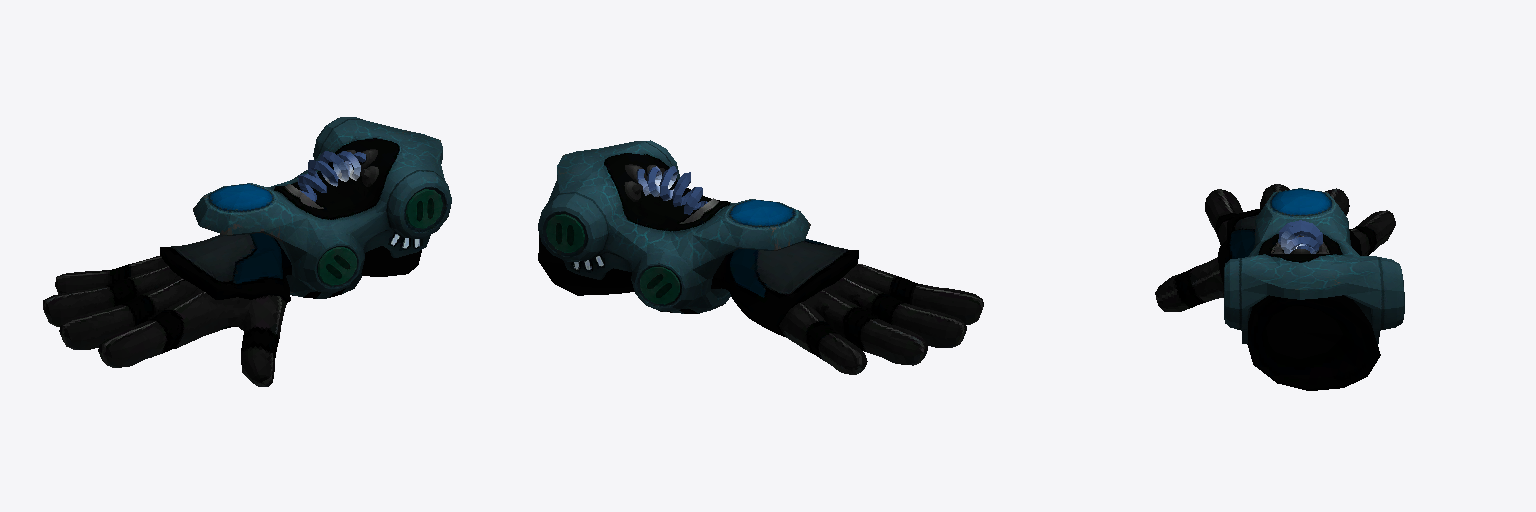
3 renders of one model, left to right at view 1: azimuth 30°, elevation 25°; view 2: azimuth 150°, elevation 25°; view 3: azimuth 270°, elevation 25°, orthographic.
Visible parts, largest first — view 1: Mesh_1, Mesh_3, Mesh_2; view 2: Mesh_3, Mesh_1, Mesh_2; view 3: Mesh_1, Mesh_3, Mesh_2.
Boxes of the visible parts, x1,y1,x2,y2 form: Mesh_1: [43, 233, 421, 386]; Mesh_3: [193, 117, 451, 298]; Mesh_2: [298, 151, 365, 201]; Mesh_3: [538, 140, 810, 313]; Mesh_1: [538, 235, 983, 374]; Mesh_2: [637, 166, 707, 214]; Mesh_1: [1155, 184, 1395, 390]; Mesh_3: [1224, 188, 1404, 343]; Mesh_2: [1278, 220, 1322, 253].
Bounding box in the file's own units: 6.1 × 2.33 × 3.39.
Materials: 2 (2 with a texture image).